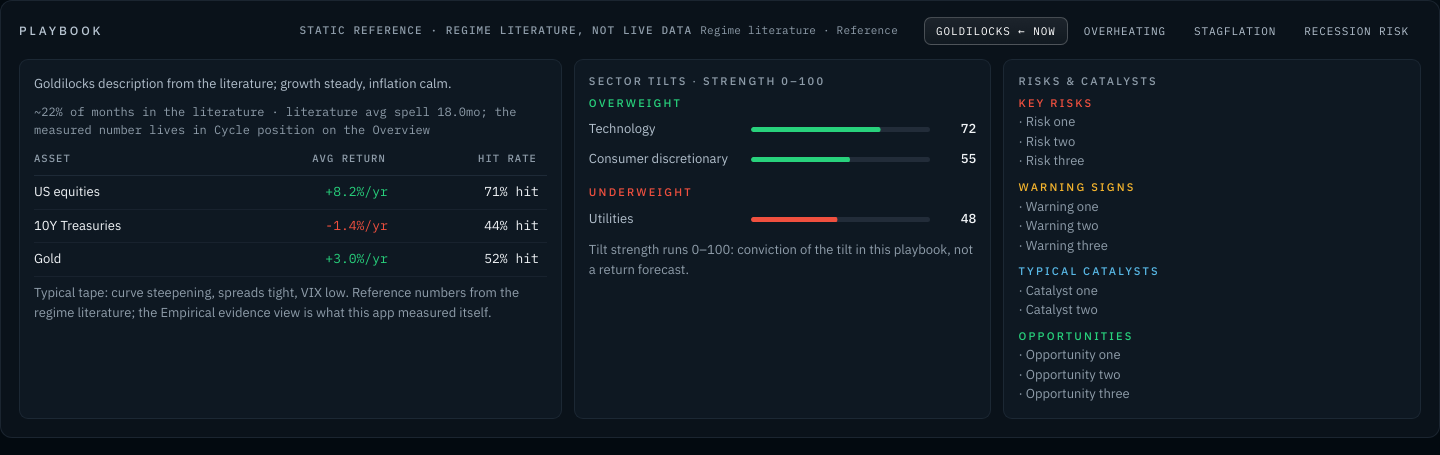
Scenario: PlaybookTab (checklist 04 B.7) › pressing another option swaps the description, the notes and the tilt rows
The width and height of the screenshot is (1440, 455).
Click the button "Overheating": (1125, 31) [1072,17,1178,45]
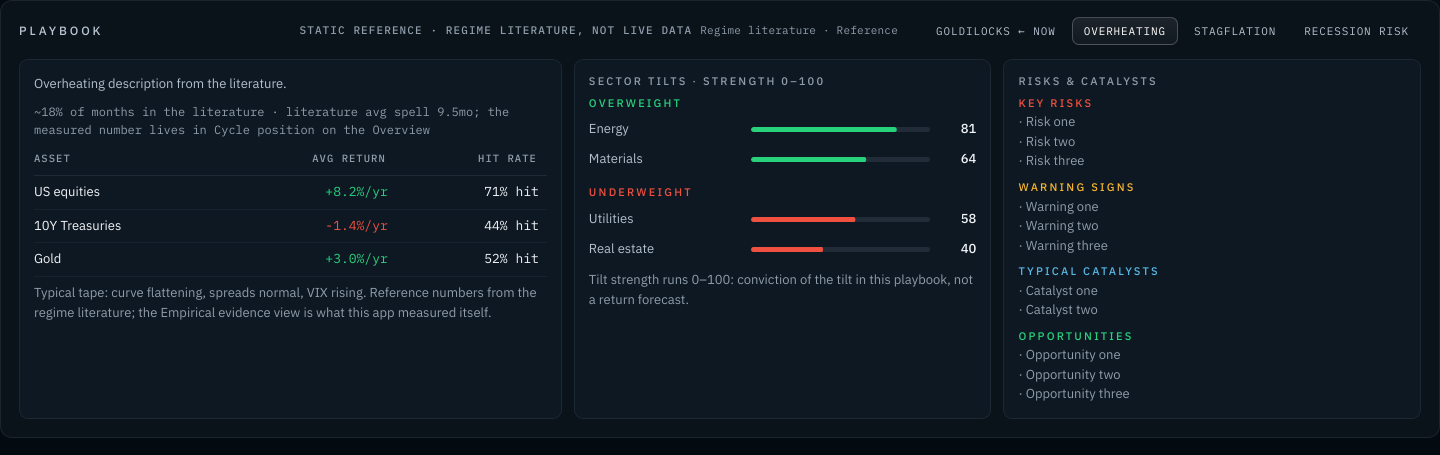
Result: the element that starts with "Playbook" shows "Overheating description from the literature." at [34,75,286,92]
Result: the text "Goldilocks description" is gone
Result: the element that starts with "Playbook" shows "~18% of months in the literature · literature avg spell 9.5mo"
Click the button "Goldilocks ← now": (996, 31) [924,17,1068,45]
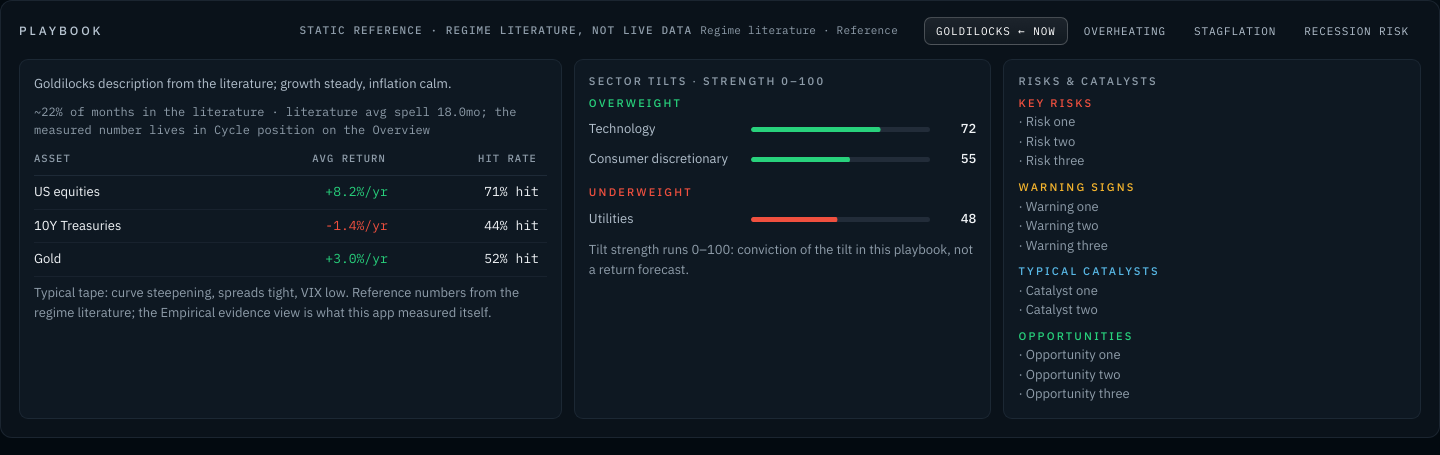
Result: the element that starts with "Playbook" shows "Goldilocks description from the literature" at [34,75,452,92]
